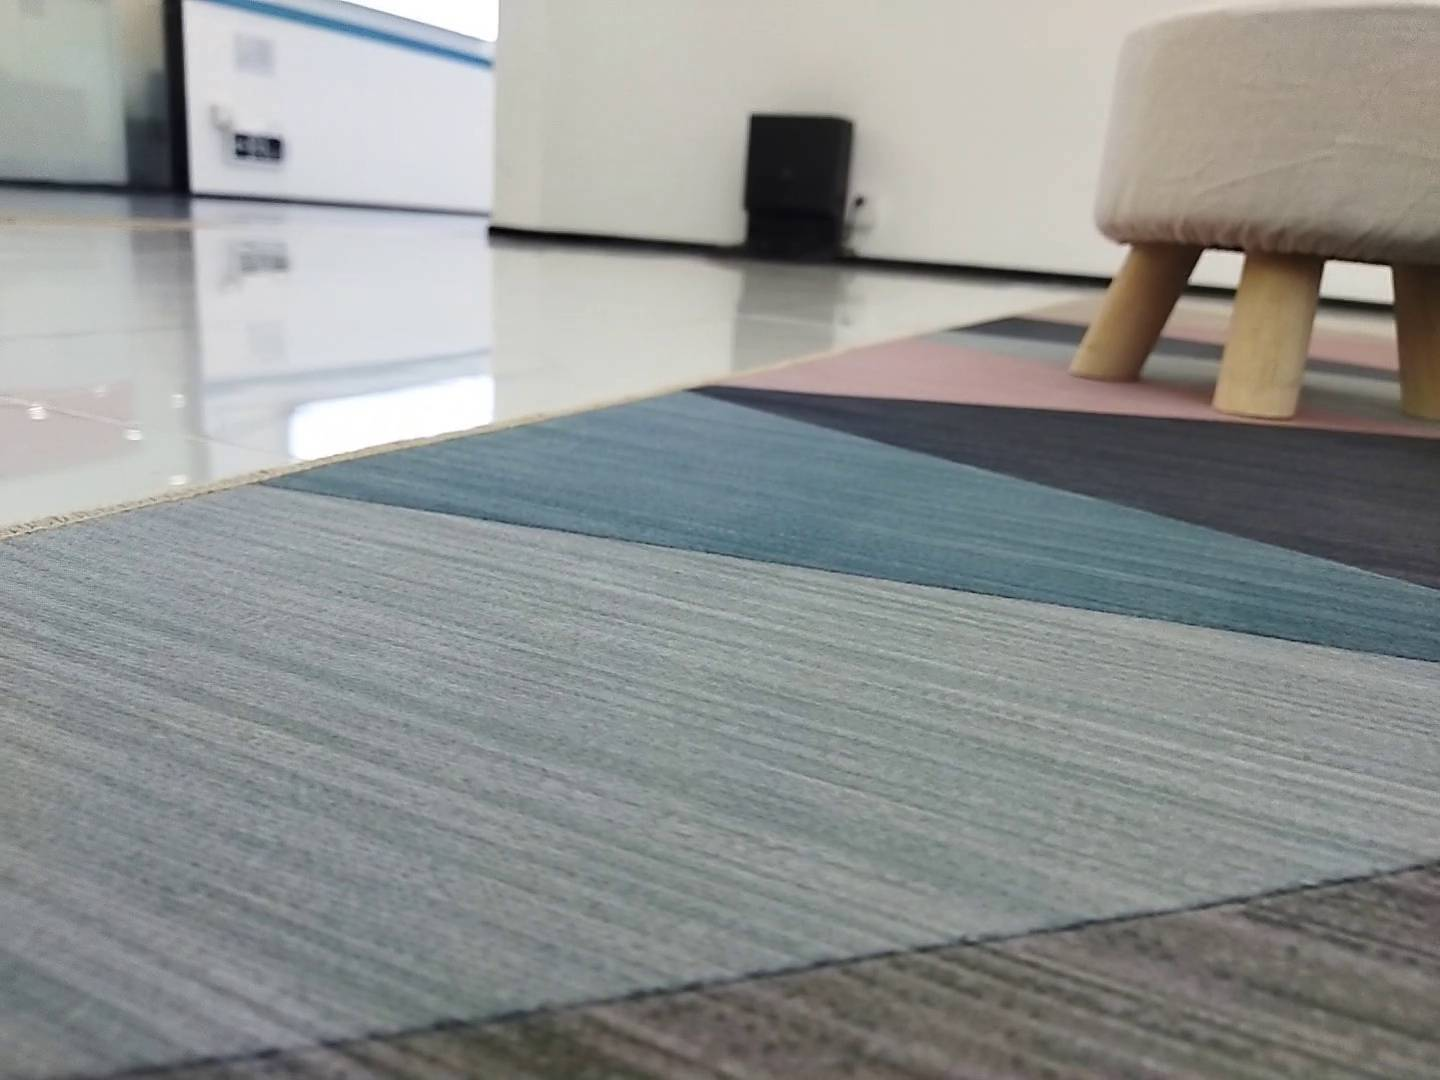dust collecting barrel: (701, 111, 865, 263)
